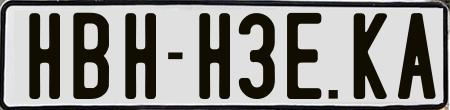3: (236, 10, 276, 102)
A: (397, 12, 434, 99)
B: (71, 11, 113, 101)
E: (285, 11, 323, 100)
H: (198, 12, 235, 98), (28, 12, 63, 102), (125, 12, 158, 98)
K: (351, 12, 390, 104)
